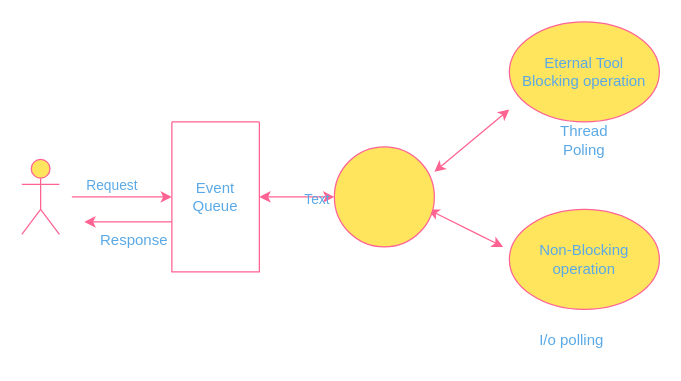
The diagram is 681 pixels wide and 381 high, and some of its shapes have lost their labels. Each missing label, with the centre of its shape:
"Actor" goes at point (40, 196).
"Event Loop" goes at point (383, 196).
